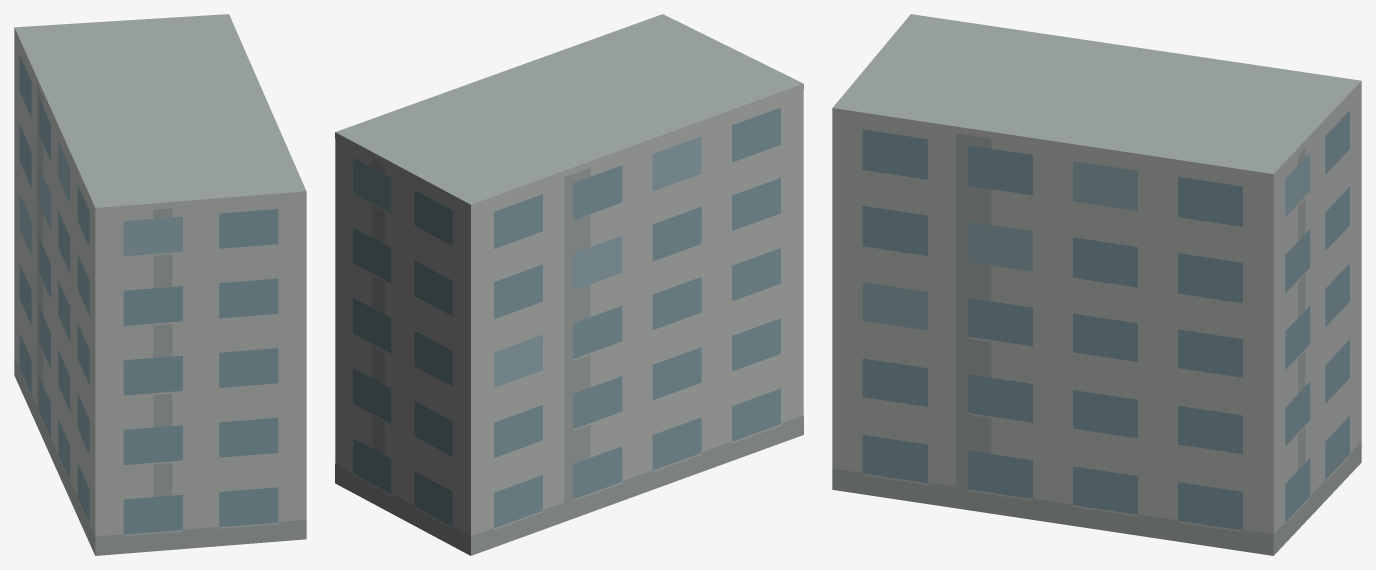
Rendered from survey-upis-32841989.glb.
3 views of the same model, side by side, from view 1: azimuth 30°, elevation 25°; view 2: azimuth 150°, elevation 25°; view 3: azimuth 270°, elevation 25° (orthographic). The views are drawn at different scales.
Parts seen in each view (by area): view 1: survey-upis-32841989.tmp; view 2: survey-upis-32841989.tmp; view 3: survey-upis-32841989.tmp.
Part boxes in pixels (<box>): survey-upis-32841989.tmp: <box>14,14,306,555</box>; survey-upis-32841989.tmp: <box>335,14,803,555</box>; survey-upis-32841989.tmp: <box>832,14,1361,555</box>.
Bounding box in the file's own units: 11.97 × 13.3 × 16.72.
